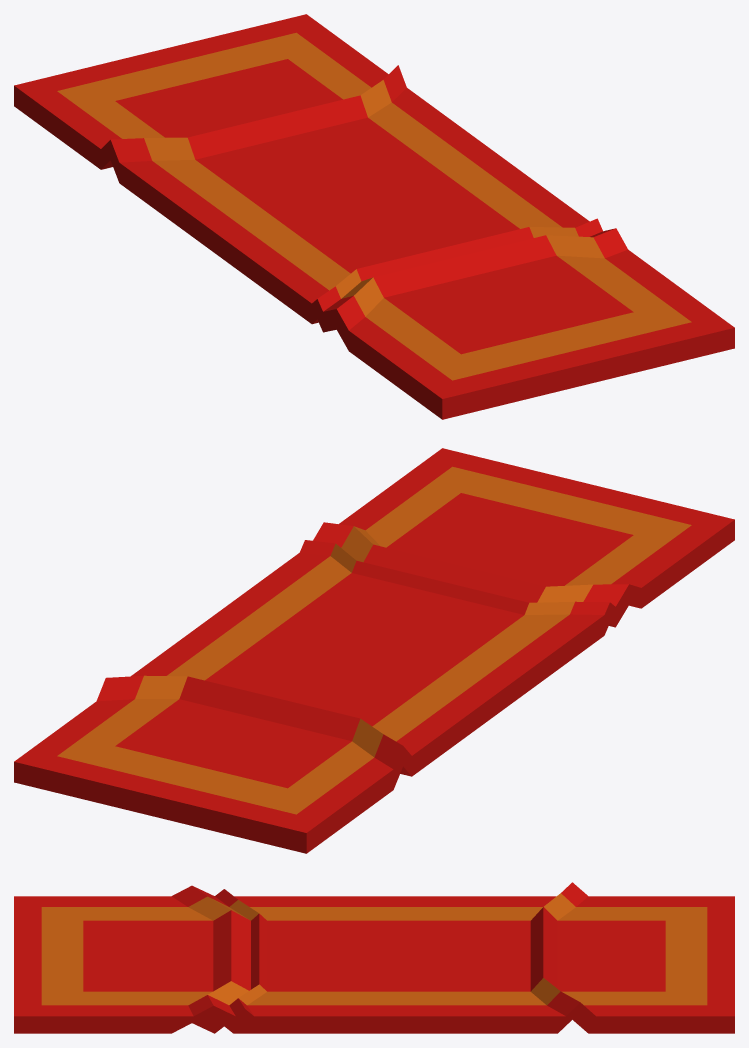
The model's file is Carpet.obj.
3 renders of one model, top to bottom at view 1: azimuth 30°, elevation 25°; view 2: azimuth 150°, elevation 25°; view 3: azimuth 270°, elevation 25°, orthographic. The views are drawn at different scales.
Parts seen in each view (by area): view 1: Carpet_Cube.014; view 2: Carpet_Cube.014; view 3: Carpet_Cube.014.
Boxes of the visible parts, left/top/right/bottom form: Carpet_Cube.014: left=14, top=14, right=734, bottom=419; Carpet_Cube.014: left=14, top=448, right=734, bottom=853; Carpet_Cube.014: left=14, top=882, right=734, bottom=1033.
Bounding box in the file's own units: 2.11 × 0.2577 × 5.35.
